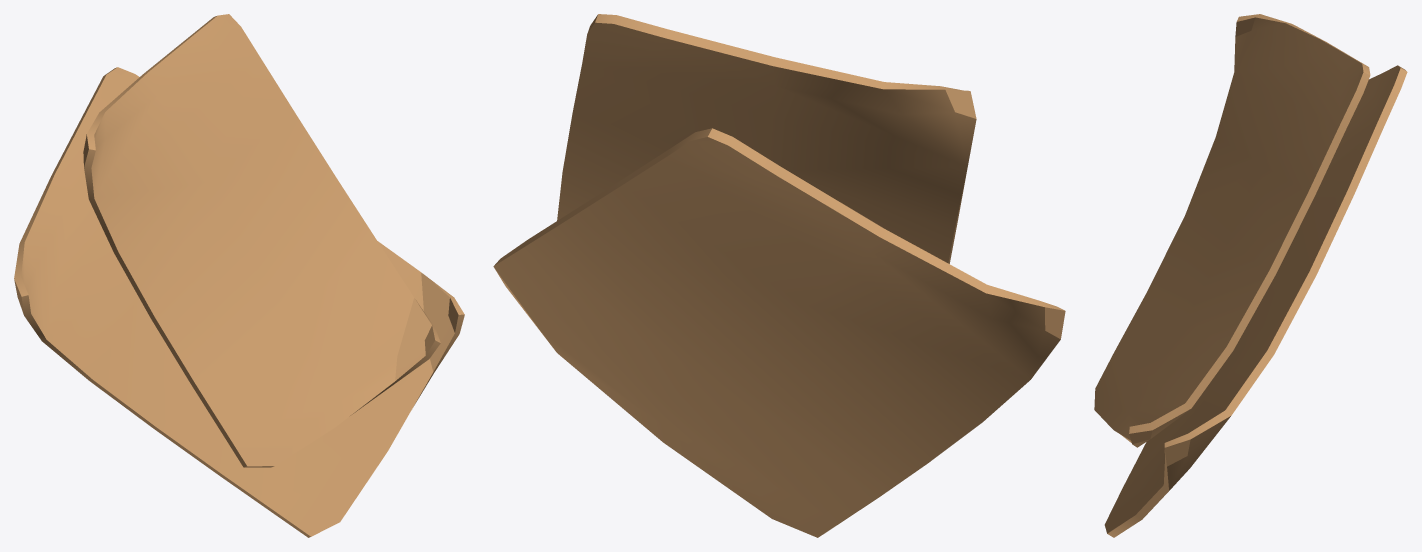
The model's file is quaternius-pirate-ui-paper.glb.
3 views of the same model, side by side, from view 1: azimuth 30°, elevation 25°; view 2: azimuth 150°, elevation 25°; view 3: azimuth 270°, elevation 25° (orthographic). The views are drawn at different scales.
Visible parts, largest first — view 1: UI_Paper; view 2: UI_Paper; view 3: UI_Paper.
Boxes of the visible parts, x1,y1,x2,y2 form: UI_Paper: (14,14,464,537); UI_Paper: (493,14,1065,537); UI_Paper: (1094,14,1407,537).
Size of the model in its own units: 0.5096 by 0.5156 by 0.3065.
Materials: 1 (1 with a texture image).
